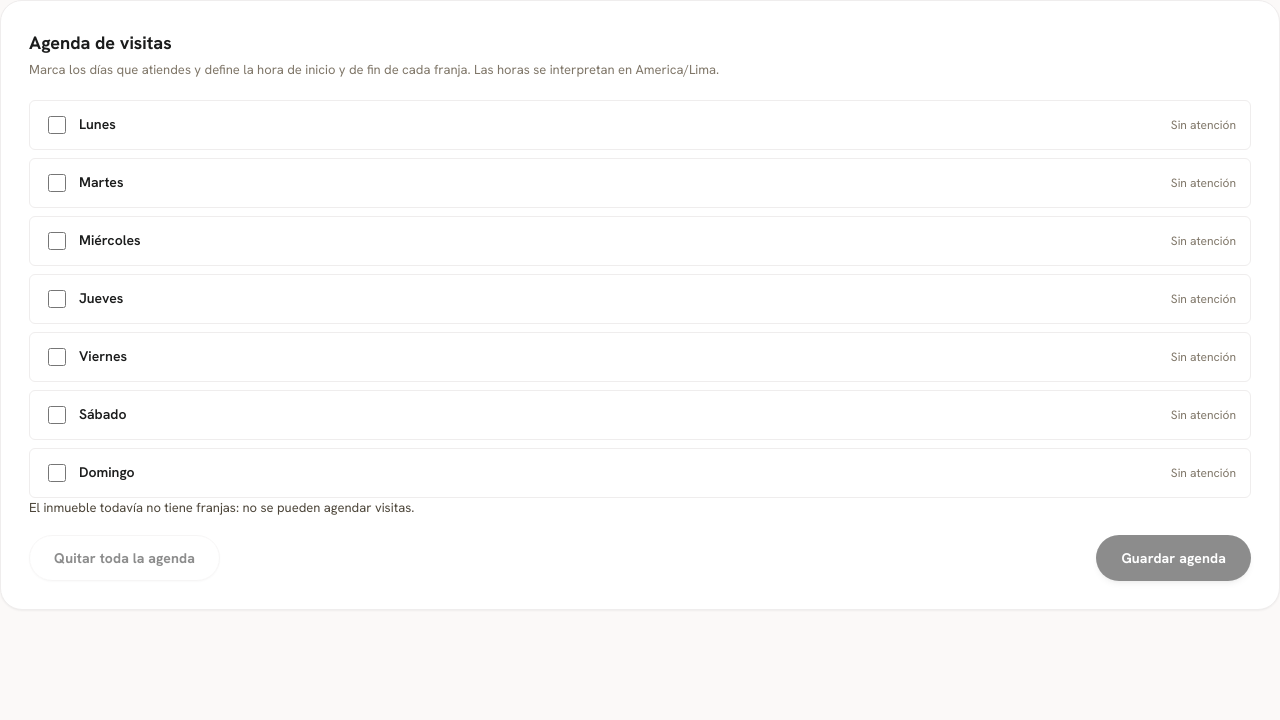
ScheduleManager (accesibilidad) › anuncia el guardado o el rechazo conservando el borrador (éxito: false)
Press Tab
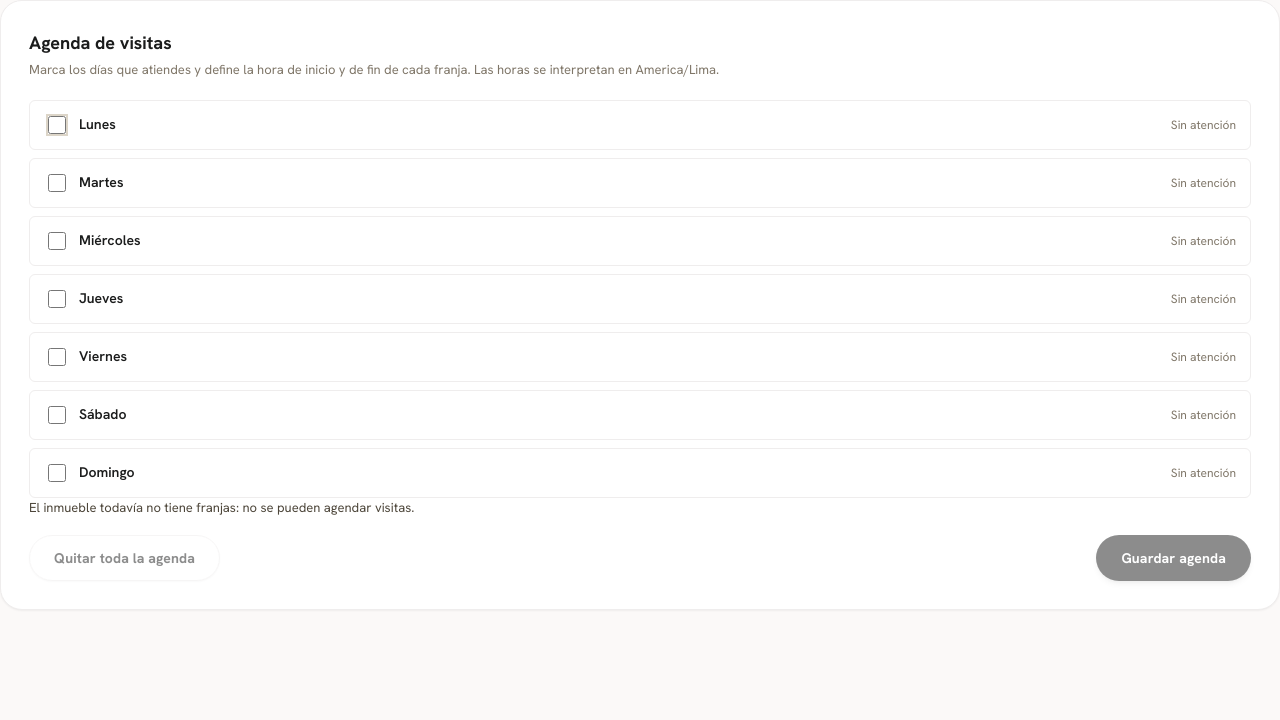
Type keys " "
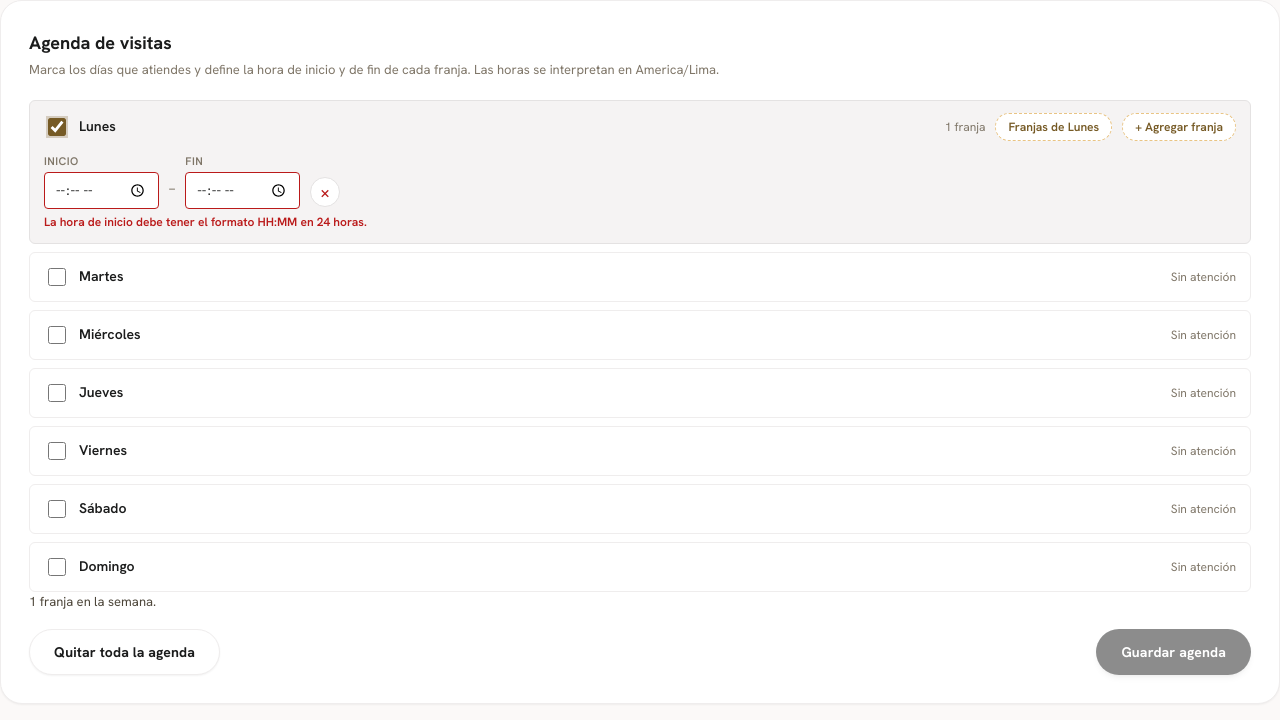
Type "09:00" into the time field named "Franja 1 de Lunes: hora de inicio".
click(101, 190); type("09:00")  # box left=44, top=172, right=159, bottom=209
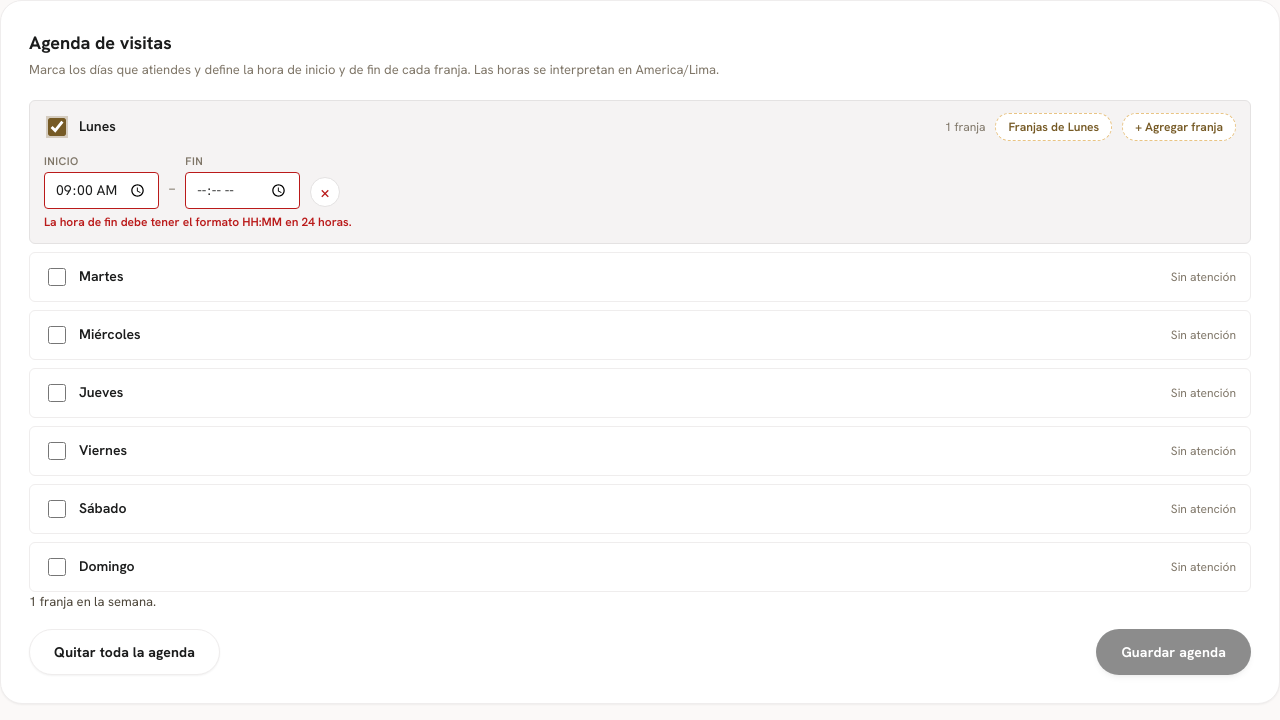
Type "10:00" into the time field named "Franja 1 de Lunes: hora de fin".
click(243, 190); type("10:00")  # box left=185, top=172, right=300, bottom=209
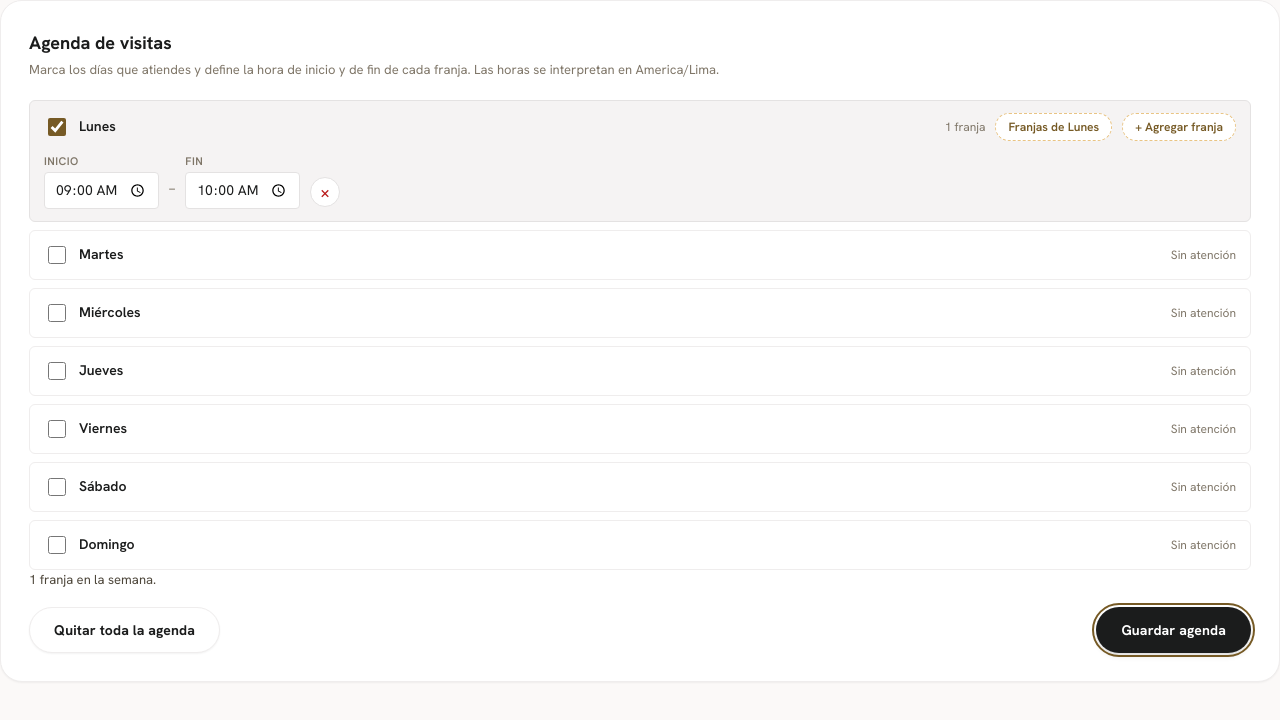
Press Enter
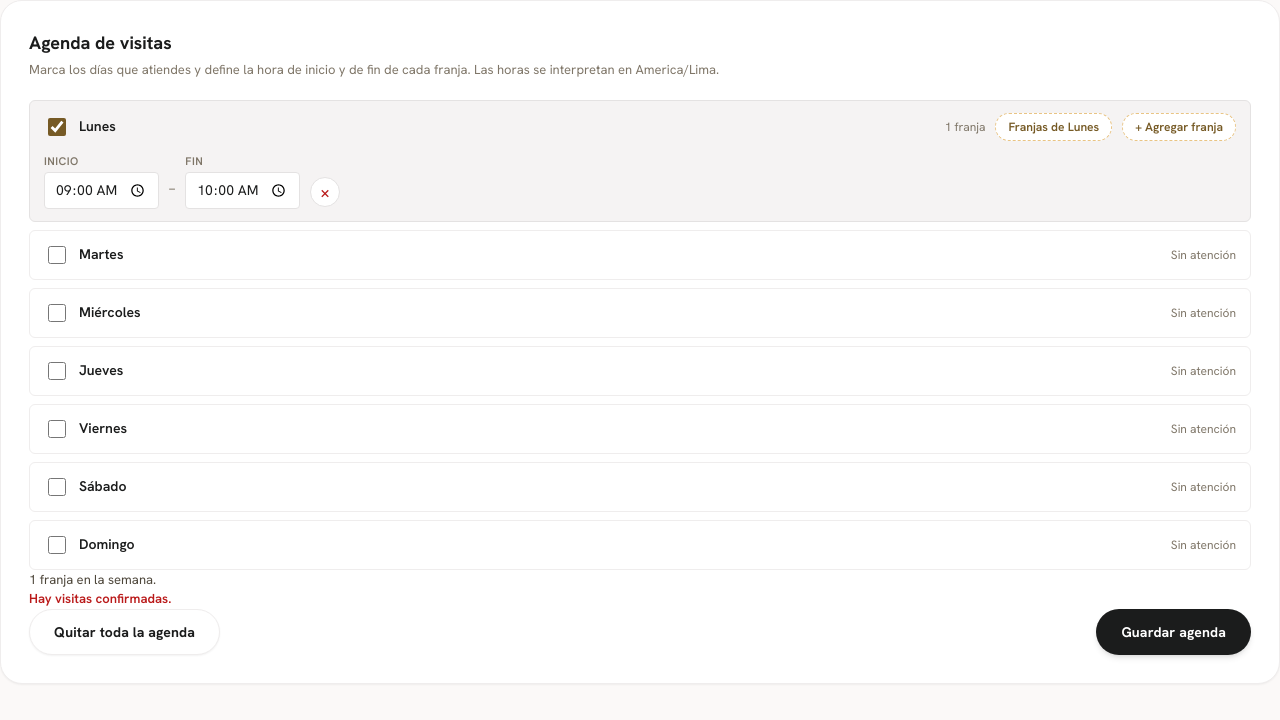
Result: the message reads "Hay visitas confirmadas." at left=29, top=590, right=171, bottom=607
